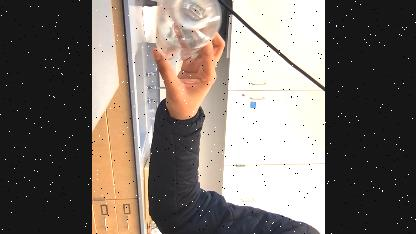Plastic Bottle: (151, 0, 231, 65)
